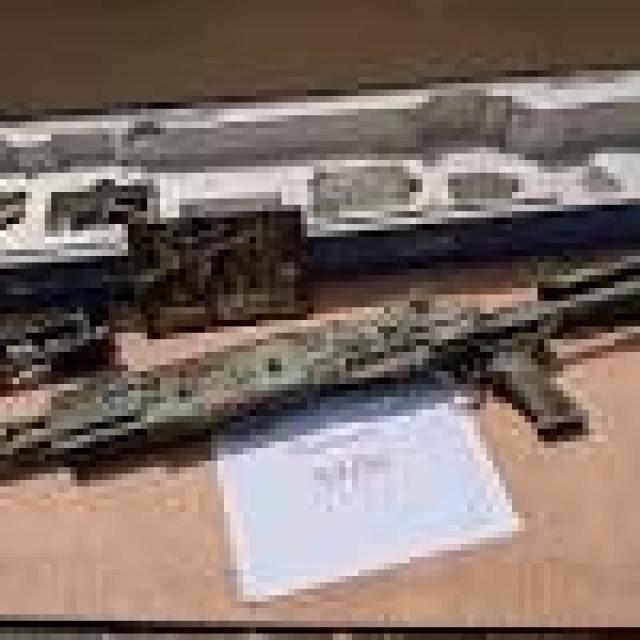Gun: (38, 259, 640, 480)
